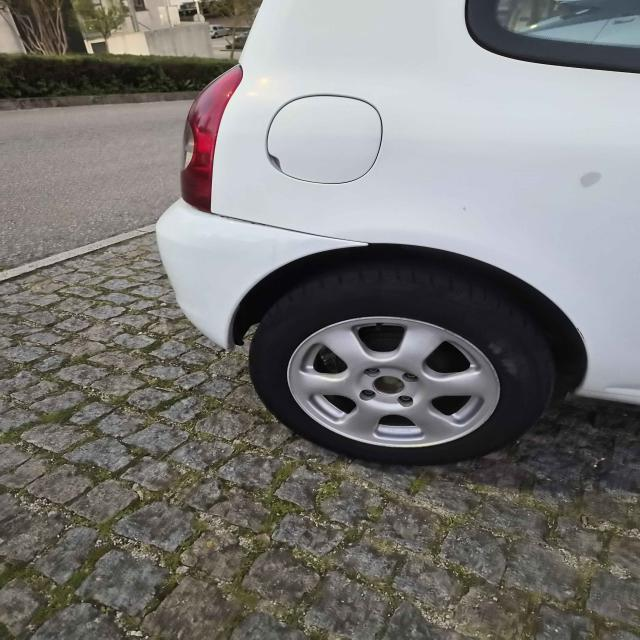jante: (286, 316, 502, 448)
parafuso: (398, 394, 414, 409), (358, 388, 376, 401), (363, 366, 382, 378), (402, 372, 417, 384)
roda: (249, 263, 557, 466)
